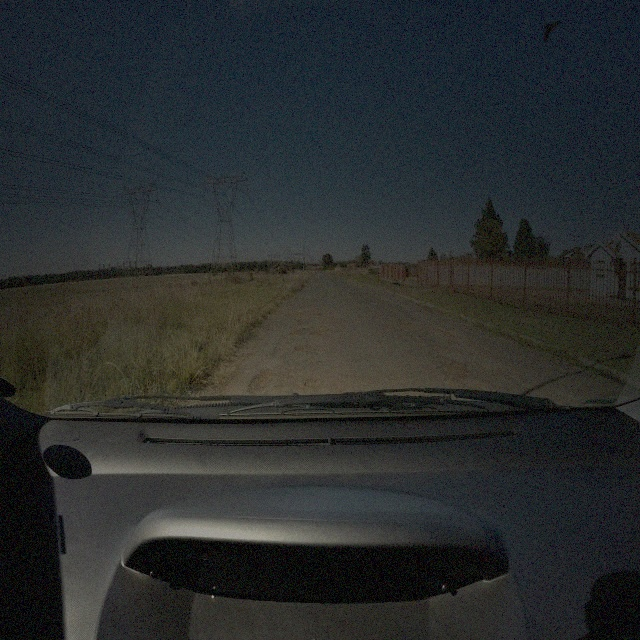pothole: (248, 364, 274, 394), (441, 364, 469, 382), (432, 344, 459, 356), (302, 381, 323, 391), (311, 330, 334, 338), (286, 310, 308, 317), (294, 346, 309, 354), (403, 324, 418, 331), (290, 331, 302, 338), (317, 312, 331, 317), (295, 319, 307, 324), (435, 354, 444, 359)
